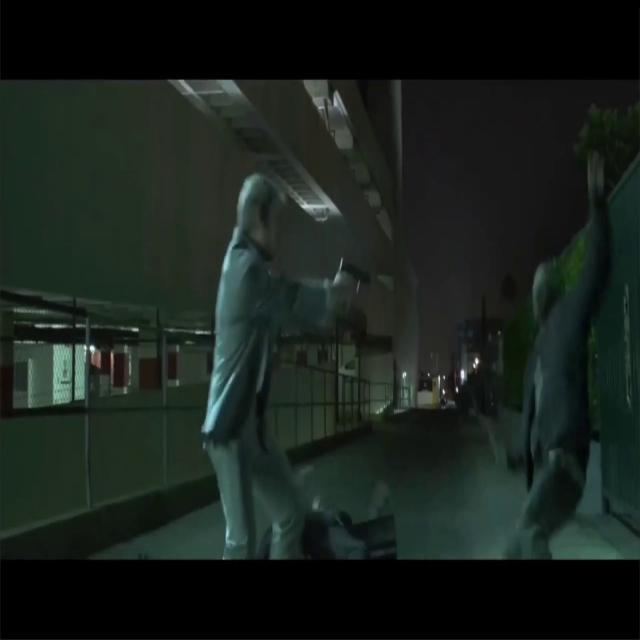Gun: (340, 258, 371, 302)
